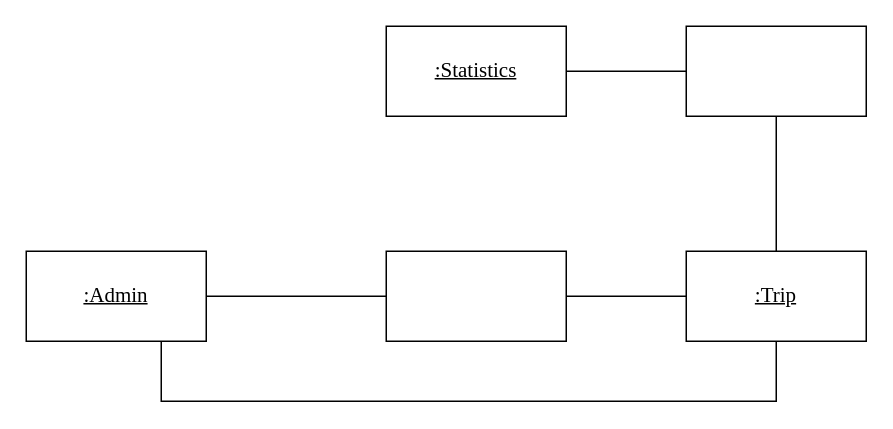
Image size: 893x429. Some labels were removed from this diagram. Here are the shapes that lost their labels. From the top down, the box of each, then its label:
(685, 25, 866, 116): :Activity
(385, 250, 566, 341): :User
